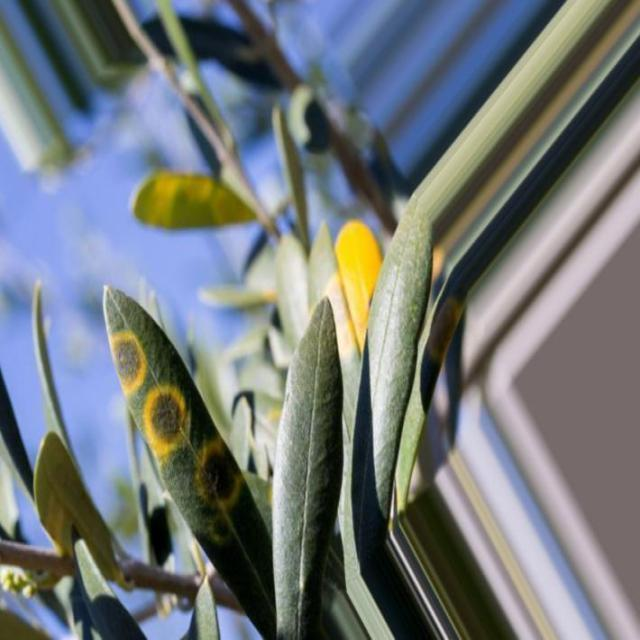OlivePeacockSpot: (104, 285, 275, 639)
